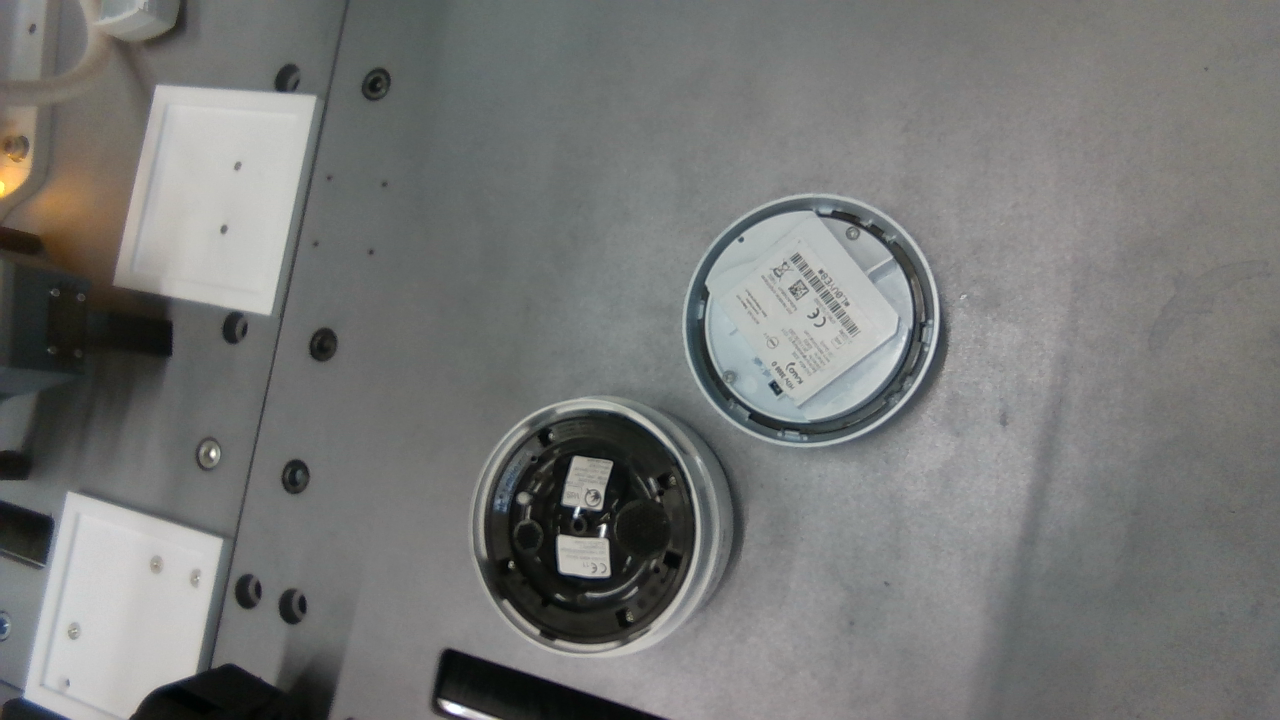HexScrew: (656, 470, 681, 493), (619, 608, 638, 628), (843, 224, 861, 243), (537, 427, 556, 443), (724, 370, 740, 387), (499, 557, 516, 572)
